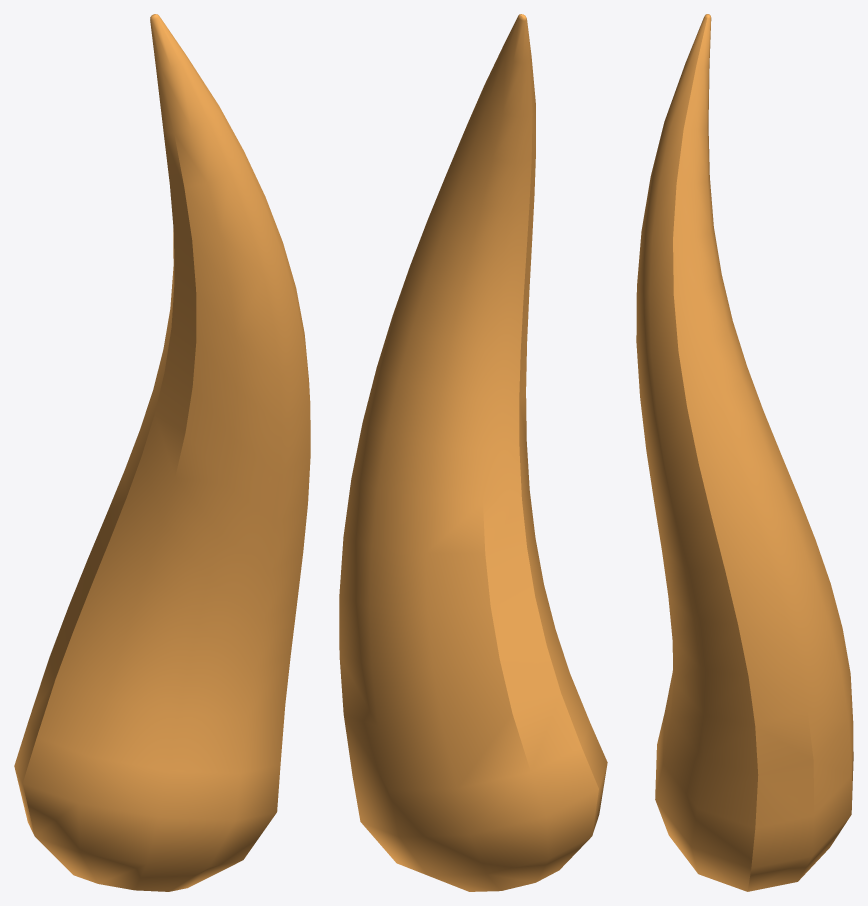
The model's file is flame_tongue.gltf.
3 views of the same model, side by side, from view 1: azimuth 30°, elevation 25°; view 2: azimuth 150°, elevation 25°; view 3: azimuth 270°, elevation 25° (orthographic). The views are drawn at different scales.
Visible parts, largest first — view 1: Body; view 2: Body; view 3: Body.
Boxes of the visible parts, <box> form: Body: <box>14,14,310,891</box>; Body: <box>339,14,607,891</box>; Body: <box>636,14,853,891</box>.
Bounding box in the file's own units: 0.3534 × 1.13 × 0.2607.
